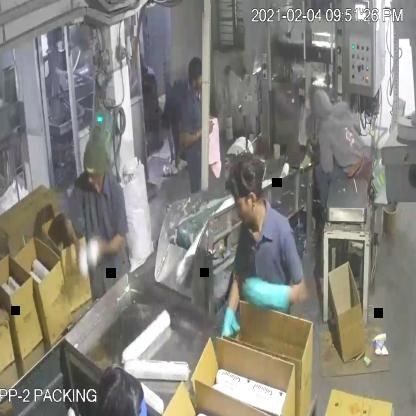glove: (243, 265, 297, 323), (218, 296, 244, 348)
no_glove: (47, 207, 87, 264), (88, 224, 134, 262), (182, 112, 216, 149)
